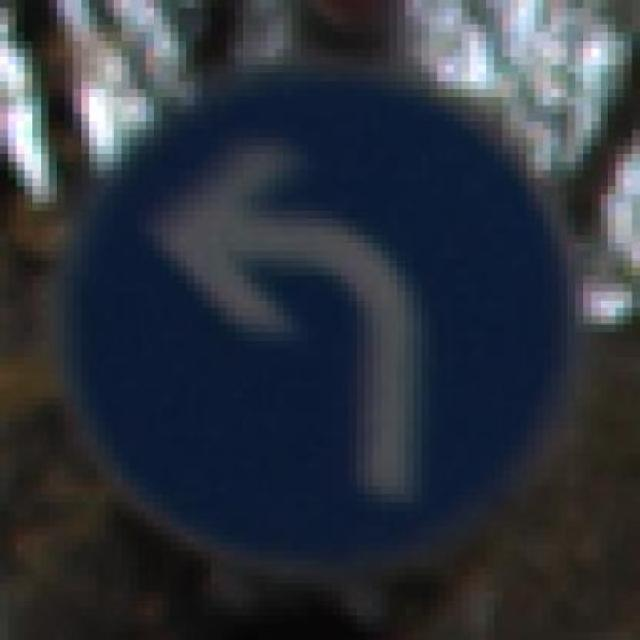Turn left ahead: (65, 56, 592, 567)
